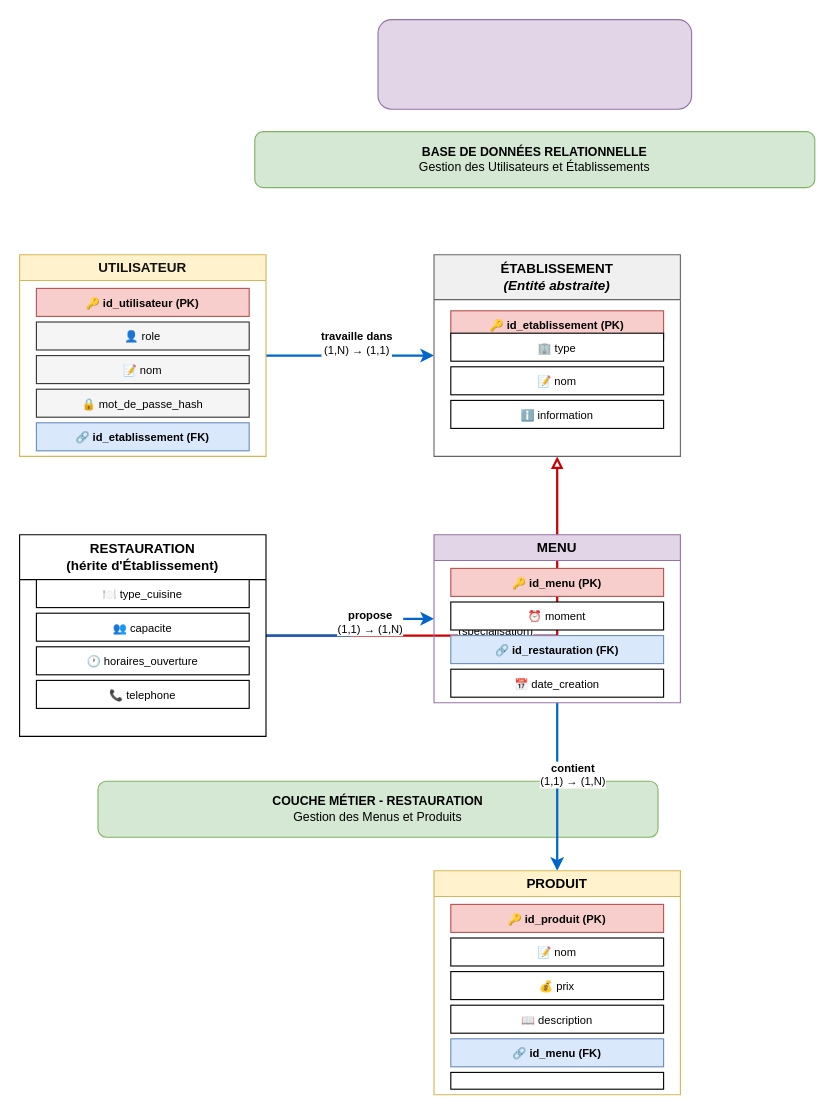
The diagram is 834 pixels wide and 1114 high, and some of its shapes have lost their labels. The shapes that lost their labels are listed below. From the top down, each one's centre as x and y in pixels, then its label:
At [534,63]: "SYSTÈME DE GESTION CUGINO - RESTAURATION Serveur & Base de données".
At [557,1080]: "🏷️ categorie".
